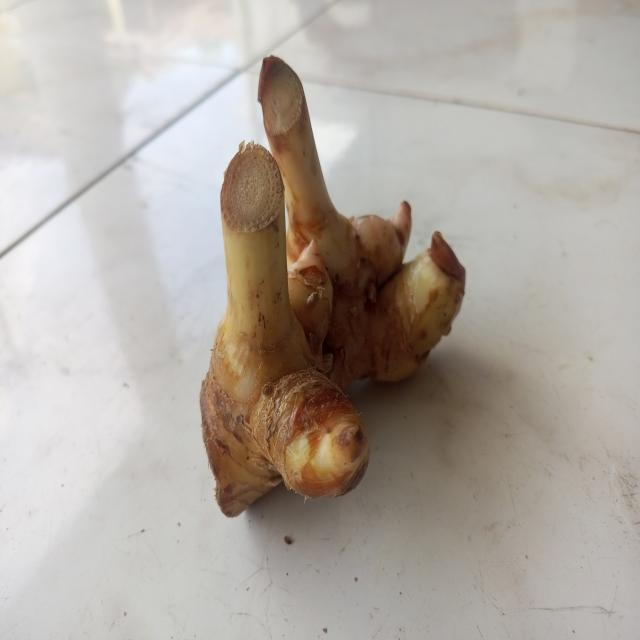ginger: (202, 86, 442, 487)
